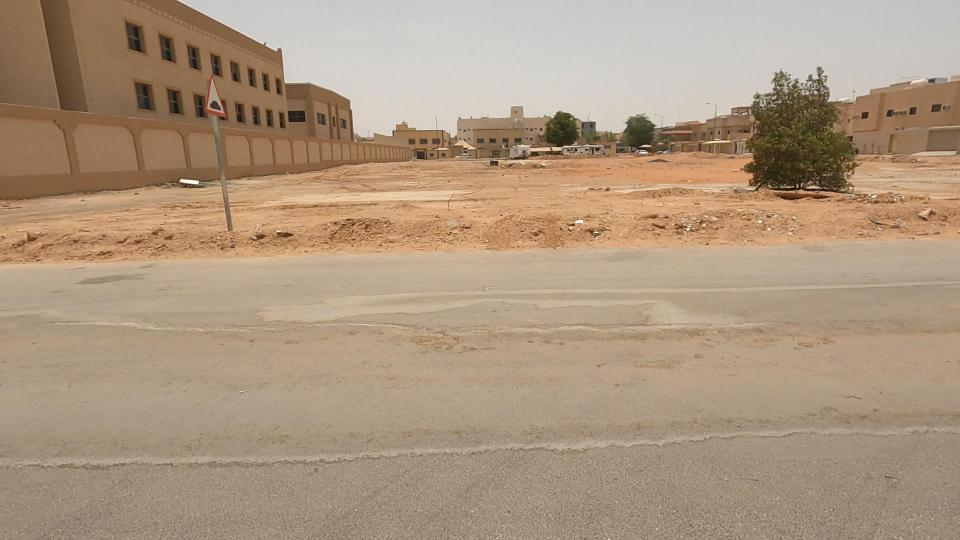GARBAGE: (636, 186, 745, 260), (538, 192, 631, 258), (143, 153, 232, 213)
